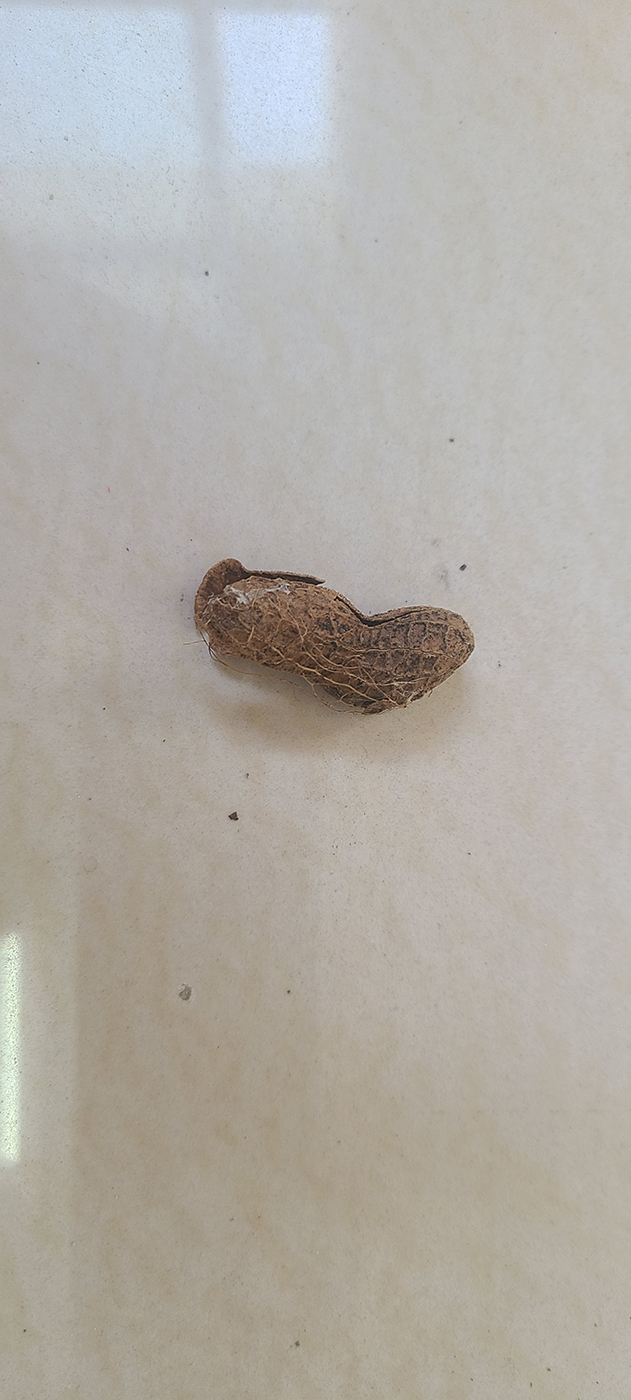l: (189, 555, 481, 709)
